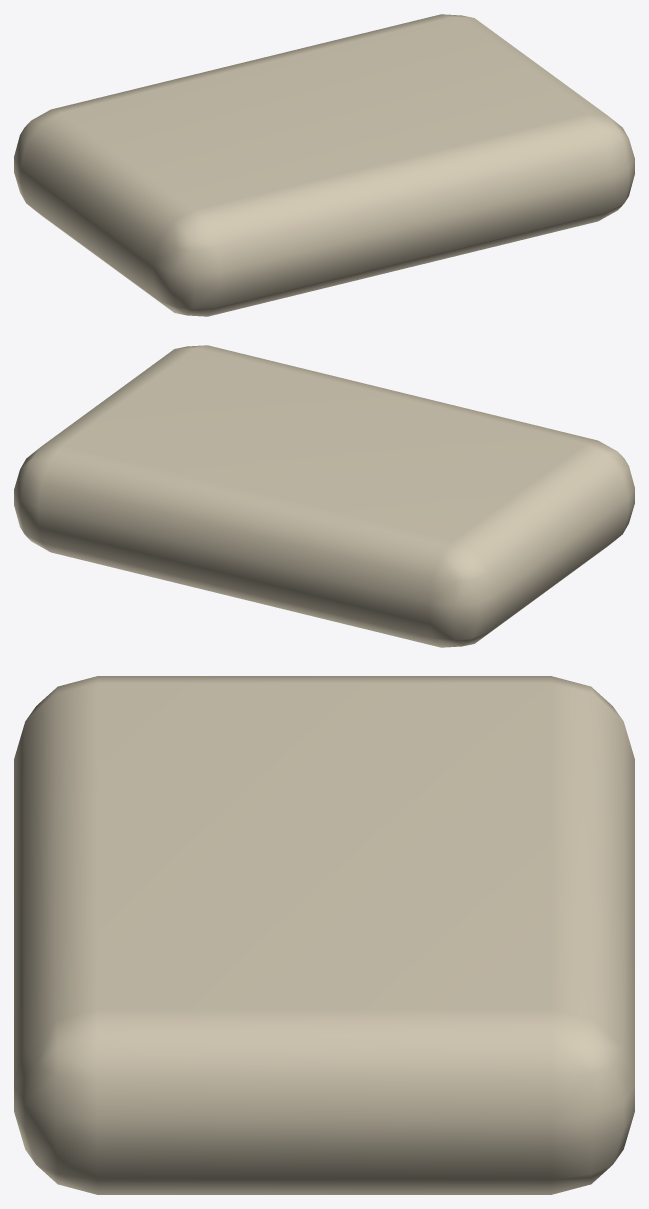
Rendered from bed-pillow.glb.
3 views of the same model, one above another, from view 1: azimuth 30°, elevation 25°; view 2: azimuth 150°, elevation 25°; view 3: azimuth 270°, elevation 25° (orthographic). The views are drawn at different scales.
Visible parts, largest first — view 1: bed-pillow / 17 / oatmeal linen; view 2: bed-pillow / 17 / oatmeal linen; view 3: bed-pillow / 17 / oatmeal linen.
Part boxes in pixels (box(x1,y1,x2,y2)): bed-pillow / 17 / oatmeal linen: box(14, 14, 634, 316); bed-pillow / 17 / oatmeal linen: box(14, 345, 634, 647); bed-pillow / 17 / oatmeal linen: box(14, 676, 634, 1194).
Bounding box in the file's own units: 0.65 × 0.136 × 0.43.
